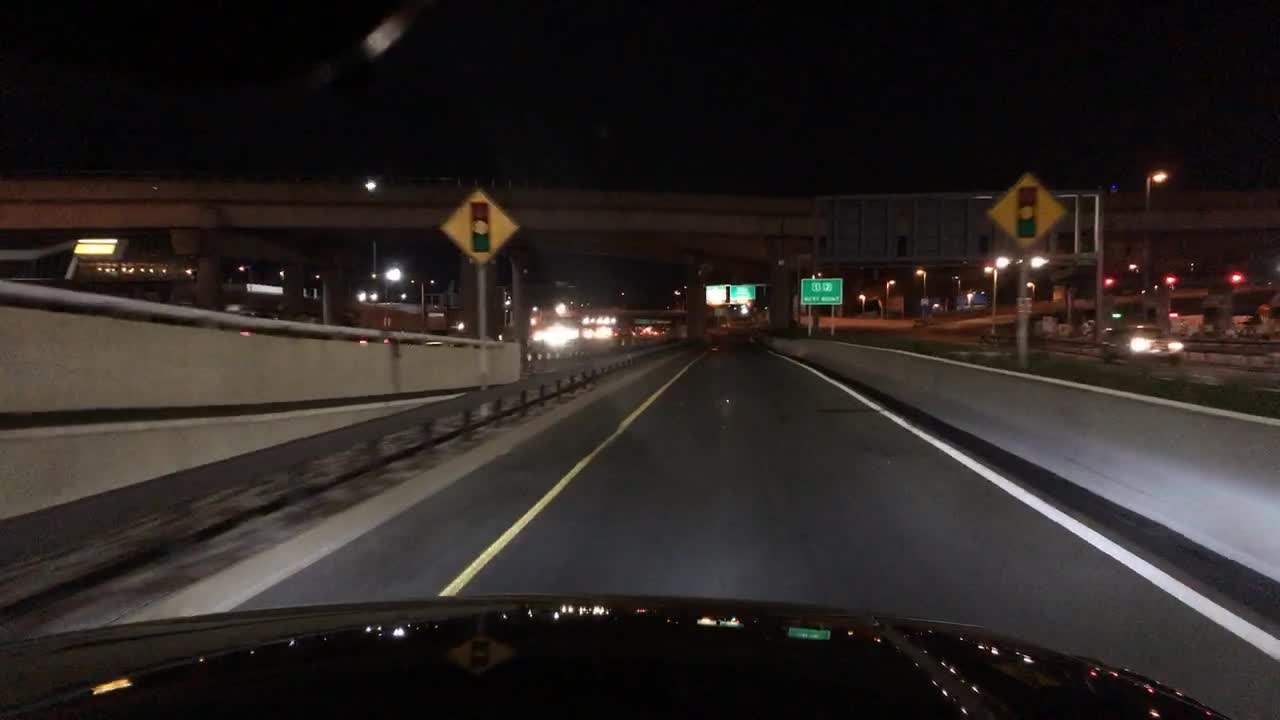car: (1097, 320, 1193, 370), (1230, 312, 1255, 327), (612, 324, 631, 340), (596, 324, 615, 337), (631, 324, 647, 339), (647, 326, 662, 336)
traffic light: (434, 185, 523, 268), (985, 166, 1066, 251), (1226, 267, 1245, 283), (1161, 273, 1180, 287), (1101, 274, 1115, 289)
traffic sign: (799, 275, 841, 305), (726, 281, 756, 305), (703, 286, 728, 305)
